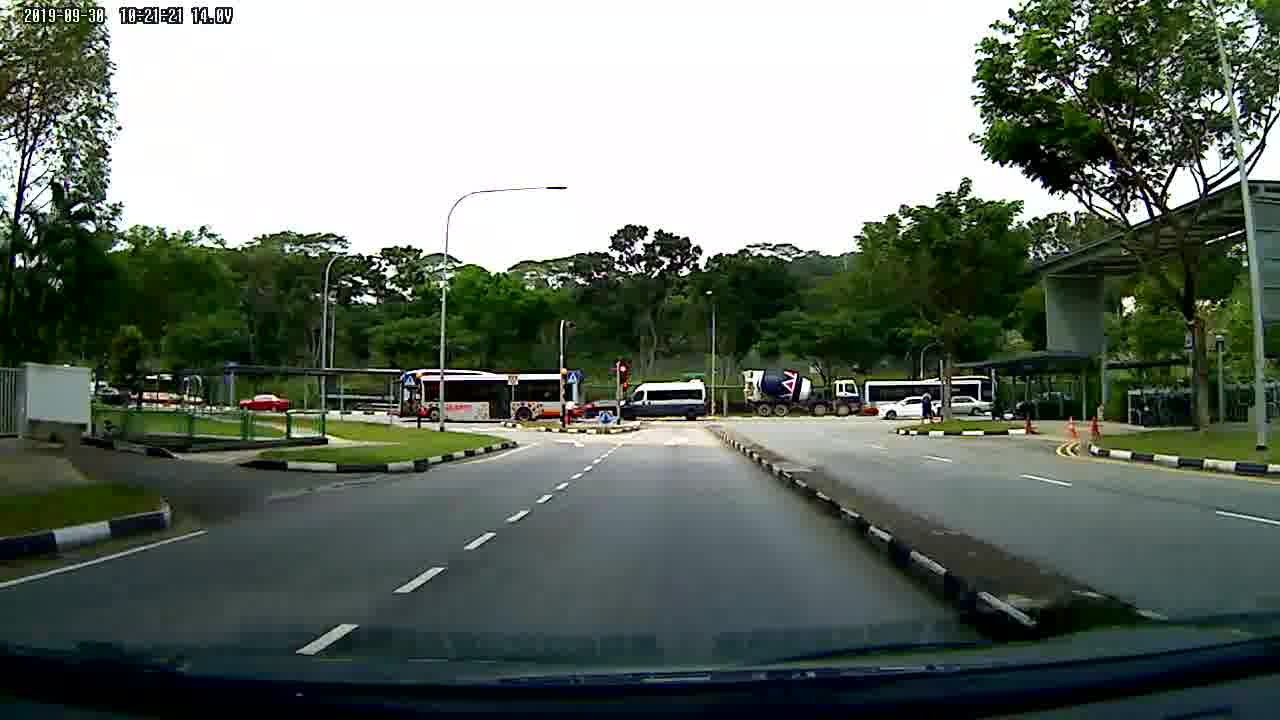bus: (398, 366, 585, 426)
car: (877, 396, 934, 422), (239, 392, 294, 411), (939, 398, 995, 414)
